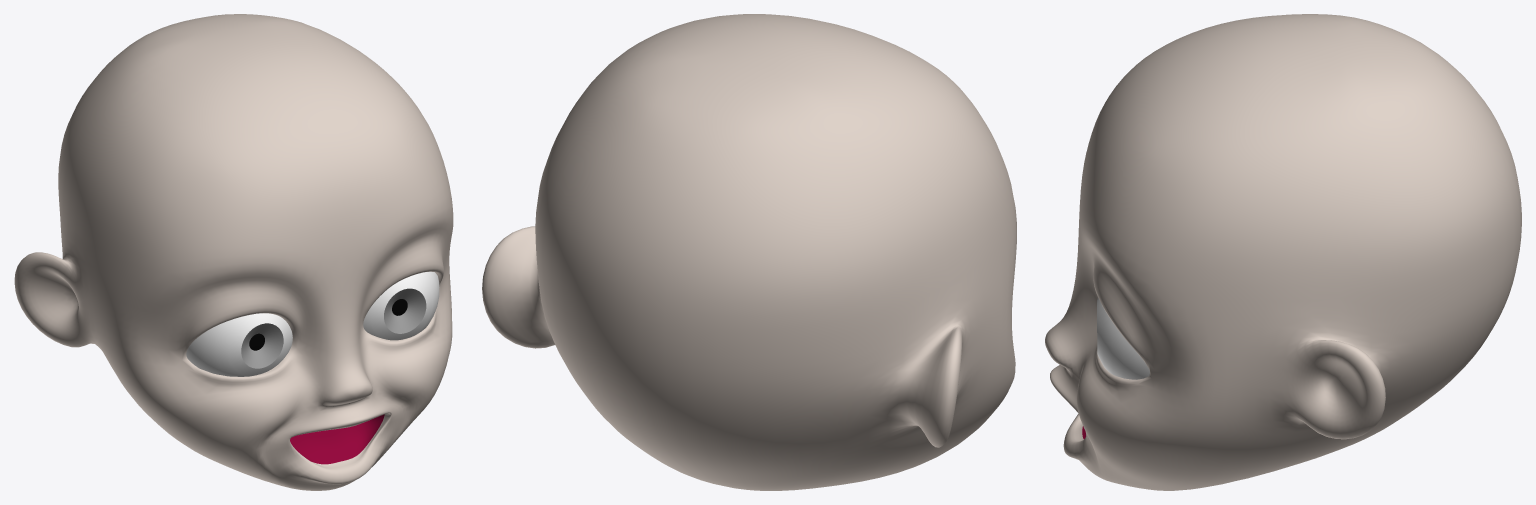
File: kafaSon.fbx
3 renders of one model, left to right at view 1: azimuth 30°, elevation 25°; view 2: azimuth 150°, elevation 25°; view 3: azimuth 270°, elevation 25°, orthographic. The views are drawn at different scales.
Visible parts, largest first — view 1: Head, Eye.R, Eye.L; view 2: Head; view 3: Head, Eye.L.
Boxes of the visible parts, x1=… form: Head: x1=14, y1=14, x2=453, y2=490; Eye.R: x1=186, y1=313, x2=292, y2=376; Eye.L: x1=363, y1=271, x2=439, y2=340; Head: x1=482, y1=14, x2=1016, y2=490; Head: x1=1045, y1=14, x2=1521, y2=490; Eye.L: x1=1097, y1=298, x2=1149, y2=379.
Size of the model in its own units: 687 by 659 by 655.
